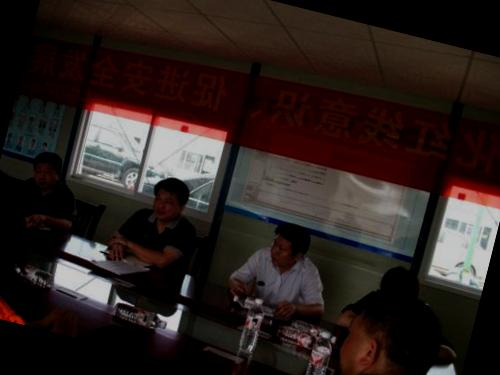no_helmet: (328, 274, 454, 375), (144, 169, 194, 228), (262, 217, 314, 273), (372, 260, 424, 306), (23, 144, 68, 194)
